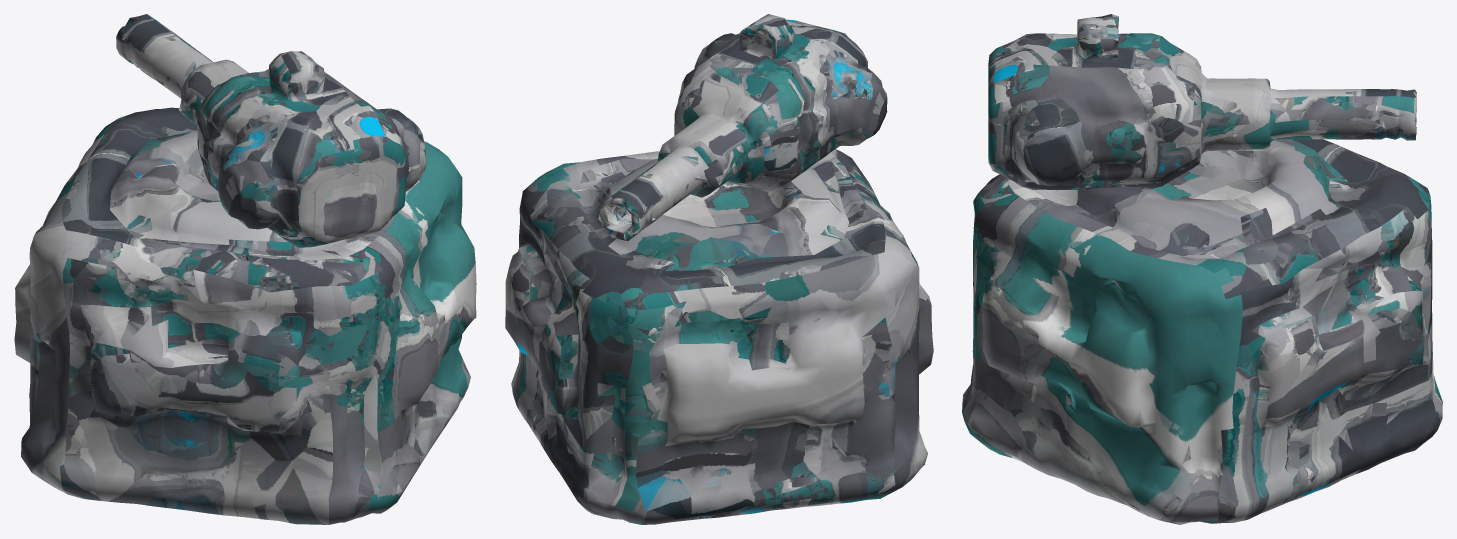
File: SM_Turret_tex1.fbx
The picture shows the model from 3 angles, left to right: view 1: azimuth 30°, elevation 25°; view 2: azimuth 150°, elevation 25°; view 3: azimuth 270°, elevation 25°; orthographic projection. The views are drawn at different scales.
Parts seen in each view (by area): view 1: SMT_Turret, Head; view 2: SMT_Turret, Head; view 3: SMT_Turret, Head.
Boxes of the visible parts, x1,y1,x2,y2 form: SMT_Turret: (14, 107, 476, 524); Head: (116, 14, 426, 247); SMT_Turret: (505, 149, 933, 524); Head: (599, 14, 887, 241); SMT_Turret: (962, 139, 1442, 524); Head: (988, 14, 1416, 190).
Size of the model in its own units: 0.9388 by 0.9163 by 0.9432.
